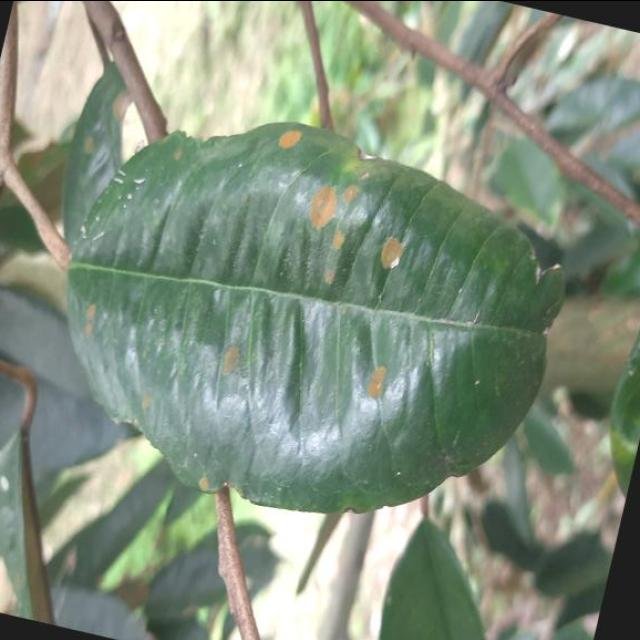Algal Leaf Spot: (15, 69, 597, 572)
